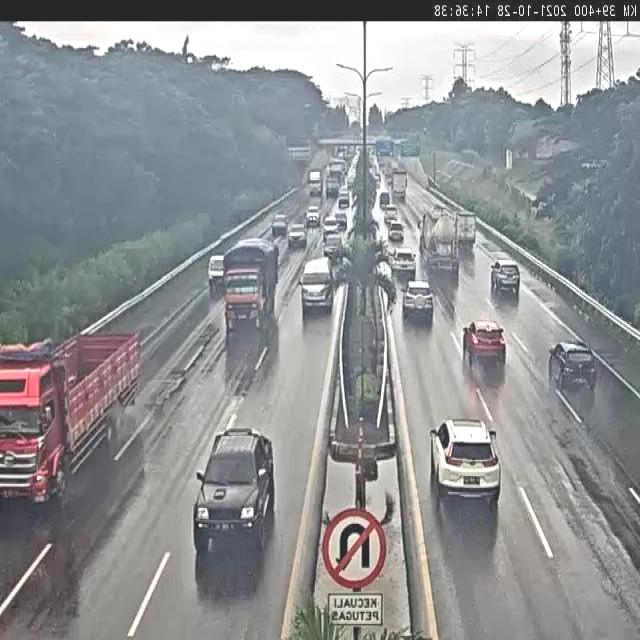Car: (191, 420, 277, 562), (430, 420, 502, 500), (550, 338, 598, 390), (298, 257, 334, 318), (462, 319, 507, 367), (400, 279, 438, 324), (492, 258, 522, 294), (391, 248, 416, 274), (288, 223, 307, 250), (271, 212, 288, 234)
Truck: (0, 315, 146, 510), (220, 239, 279, 331), (419, 210, 460, 274)
